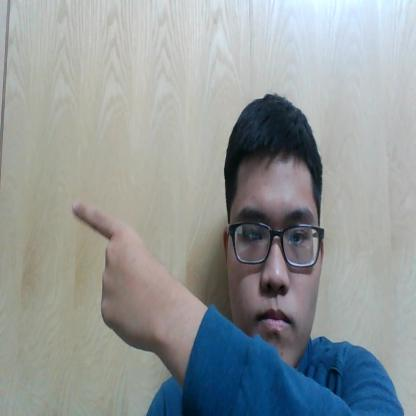right: (61, 186, 179, 374)
